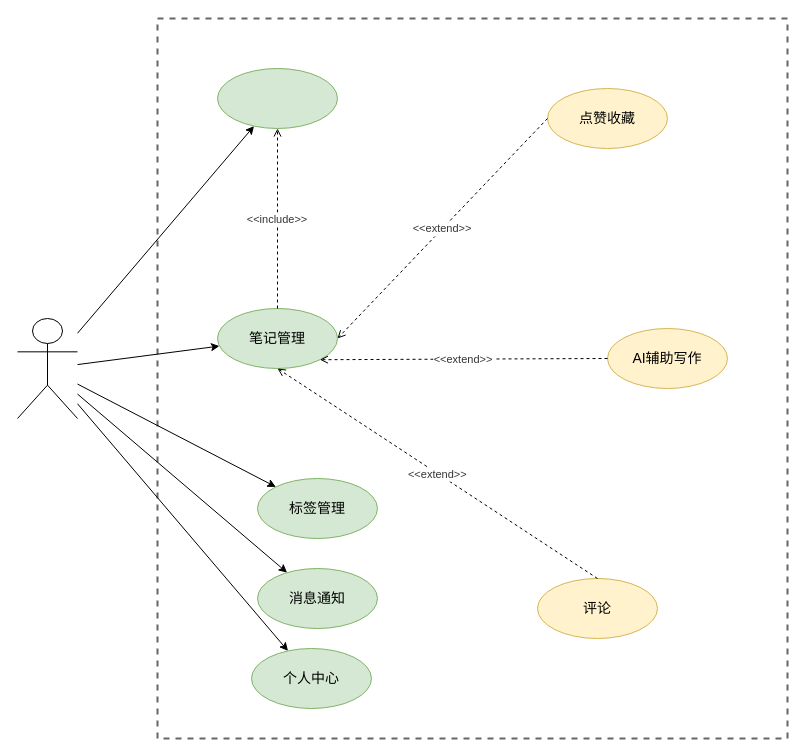
The diagram is 806 pixels wide and 756 high, and some of its shapes have lost their labels. Here are the shapes that lost their labels. From the top down, the centre of each, then its label:
At (277,98): "登录".
At (47,368): "普通用户".
